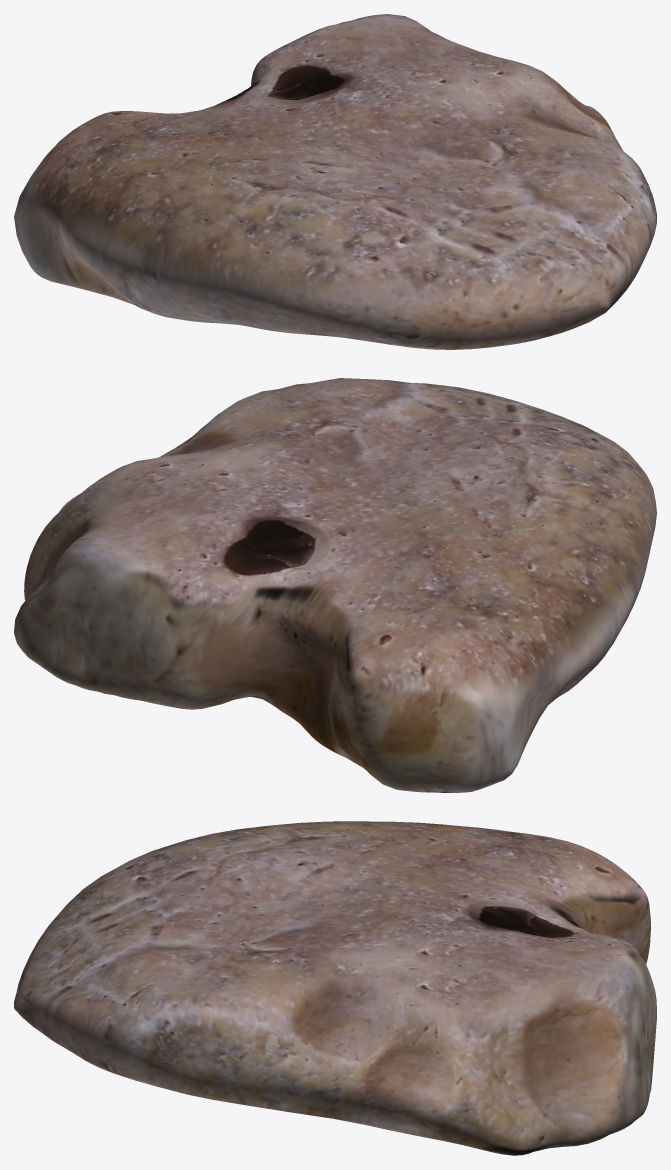
The model's file is BeachRock5.fbx.
The picture shows the model from 3 angles, top to bottom: view 1: azimuth 30°, elevation 25°; view 2: azimuth 150°, elevation 25°; view 3: azimuth 270°, elevation 25°; orthographic projection. The views are drawn at different scales.
Parts seen in each view (by area): view 1: BeachRock5_LOD0; view 2: BeachRock5_LOD0; view 3: BeachRock5_LOD0.
Boxes of the visible parts, bbox=[...] form: BeachRock5_LOD0: bbox=[14, 14, 656, 349]; BeachRock5_LOD0: bbox=[14, 378, 656, 792]; BeachRock5_LOD0: bbox=[14, 821, 656, 1155].
Size of what is drawn, in the model's own units: 24.85 by 8.02 by 26.09.
